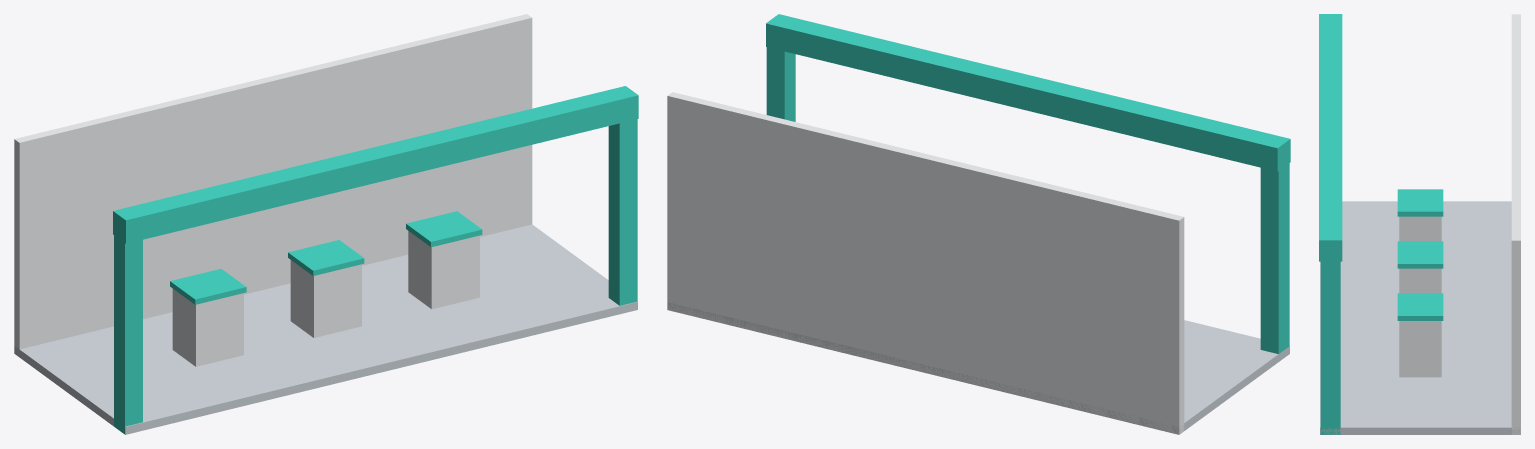
3 views of the same model, side by side, from view 1: azimuth 30°, elevation 25°; view 2: azimuth 150°, elevation 25°; view 3: azimuth 270°, elevation 25° (orthographic). The views are drawn at different scales.
Parts seen in each view (by area): view 1: Exhibition Booth Concept; view 2: Exhibition Booth Concept; view 3: Exhibition Booth Concept.
Boxes of the visible parts, left/top/right/bottom form: Exhibition Booth Concept: left=14, top=14, right=638, bottom=434; Exhibition Booth Concept: left=667, top=14, right=1290, bottom=434; Exhibition Booth Concept: left=1319, top=14, right=1520, bottom=434.
Bounding box in the file's own units: 8 × 3.2 × 3.01.
